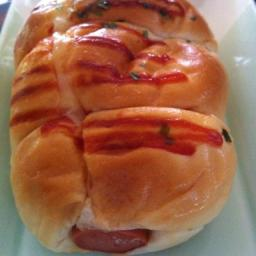hotdog: (71, 224, 152, 256)
